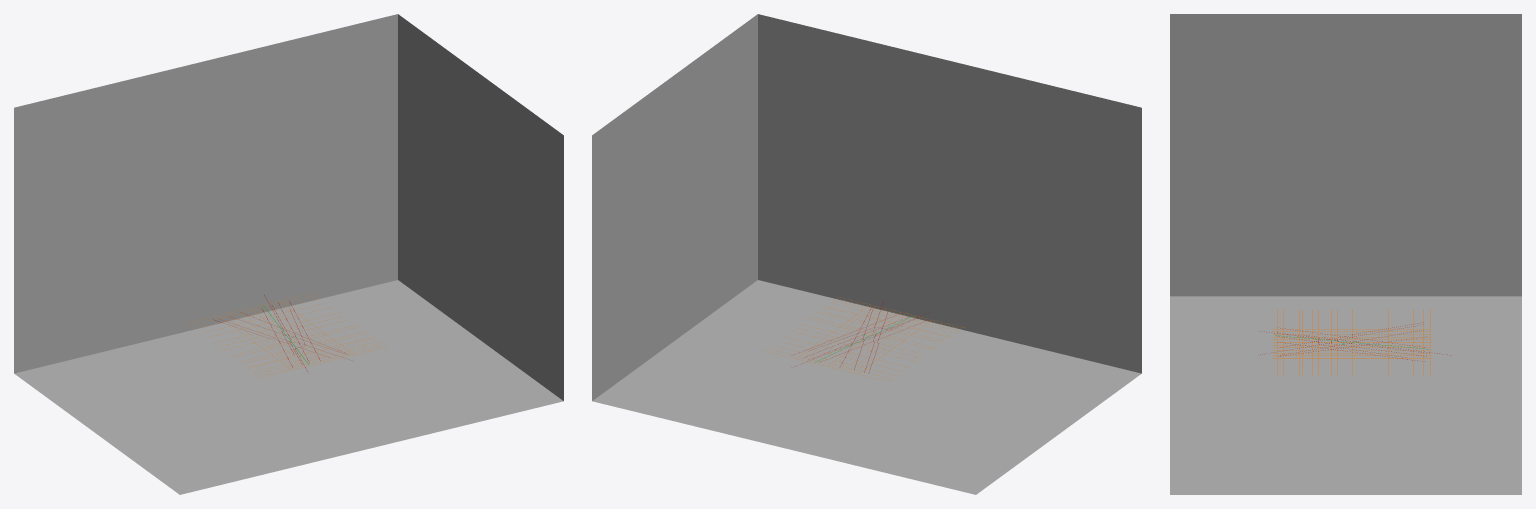
Rendered from EVA01.glb.
The picture shows the model from 3 angles, left to right: view 1: azimuth 30°, elevation 25°; view 2: azimuth 150°, elevation 25°; view 3: azimuth 270°, elevation 25°; orthographic projection. The views are drawn at different scales.
Visible parts, largest first — view 1: BOX; view 2: BOX; view 3: BOX.
Boxes of the visible parts, <box> form: BOX: <box>14,14,563,494</box>; BOX: <box>592,14,1141,494</box>; BOX: <box>1170,14,1521,494</box>.
Size of the model in its own units: 372 by 246 by 278.
5 materials, 5 textured.
